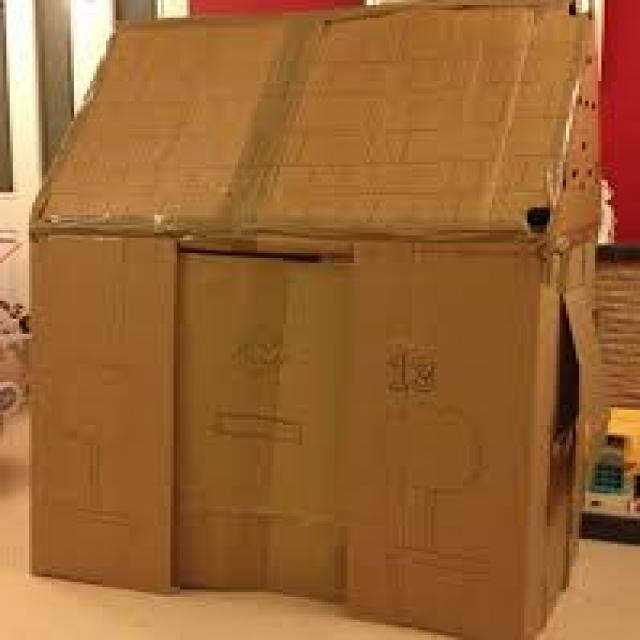Cardboard: (29, 3, 604, 640)
